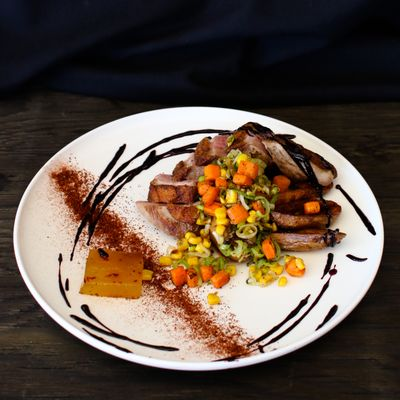curry: (1, 16, 398, 392)
pizza: (170, 266, 188, 286)
